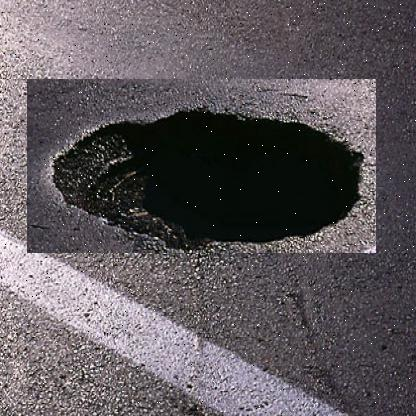pothole_water: (26, 79, 376, 254)
